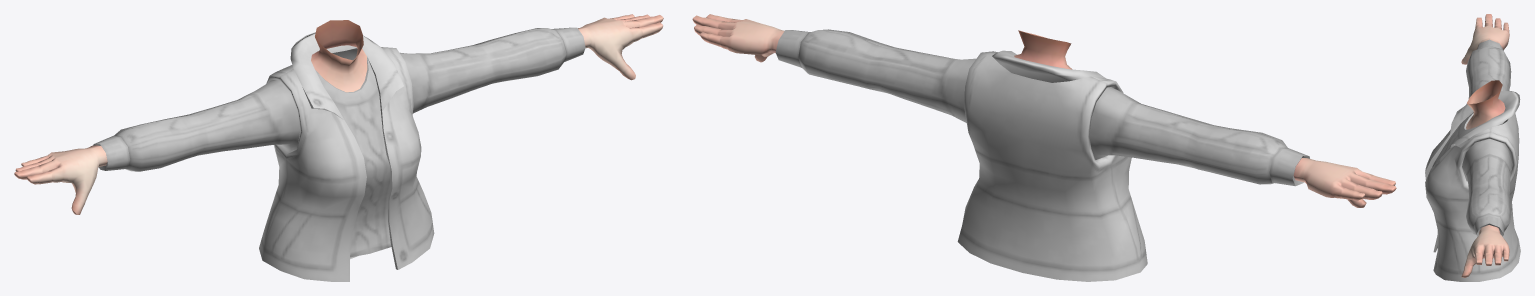
The model's file is tr0870_00_upb03.gltf.
3 views of the same model, side by side, from view 1: azimuth 30°, elevation 25°; view 2: azimuth 150°, elevation 25°; view 3: azimuth 270°, elevation 25° (orthographic). The views are drawn at different scales.
Parts seen in each view (by area): view 1: upb03_upperbody_jacket_mesh_shape:upperbody03, upb03_upperbody_inner_mesh_shape:upperbody03, upb03_upperbody_skin_mesh_shape:upperbody03_skin; view 2: upb03_upperbody_jacket_mesh_shape:upperbody03, upb03_upperbody_inner_mesh_shape:upperbody03, upb03_upperbody_skin_mesh_shape:upperbody03_skin; view 3: upb03_upperbody_jacket_mesh_shape:upperbody03, upb03_upperbody_inner_mesh_shape:upperbody03, upb03_upperbody_skin_mesh_shape:upperbody03_skin.
Part boxes in pixels (x1,y1,x2,y2): upb03_upperbody_jacket_mesh_shape:upperbody03: (259,32,434,281); upb03_upperbody_inner_mesh_shape:upperbody03: (93,27,585,259); upb03_upperbody_skin_mesh_shape:upperbody03_skin: (14,14,663,214); upb03_upperbody_jacket_mesh_shape:upperbody03: (957,50,1147,281); upb03_upperbody_inner_mesh_shape:upperbody03: (775,29,1309,186); upb03_upperbody_skin_mesh_shape:upperbody03_skin: (692,14,1396,207); upb03_upperbody_jacket_mesh_shape:upperbody03: (1425,91,1520,281); upb03_upperbody_inner_mesh_shape:upperbody03: (1432,39,1512,236); upb03_upperbody_skin_mesh_shape:upperbody03_skin: (1461,14,1509,277).
Size of what is drawn, in the model's own units: 1.63 by 0.5469 by 0.2648.
Materials: 2 (2 with a texture image).
